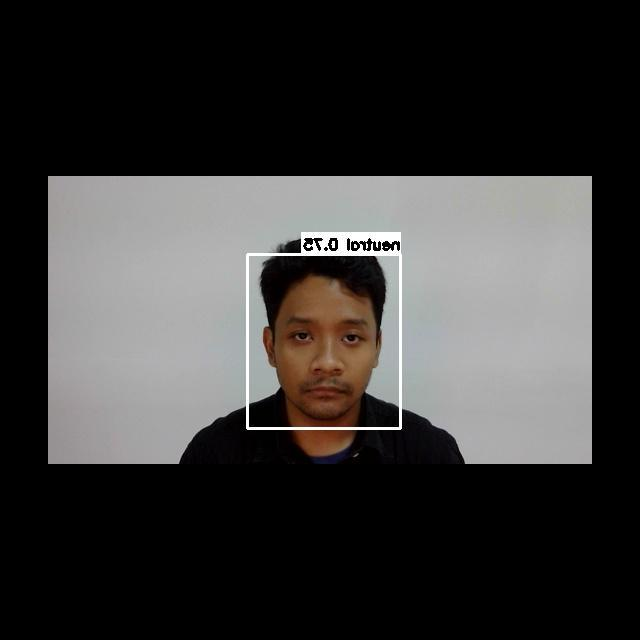Natural: (277, 313, 371, 408)
